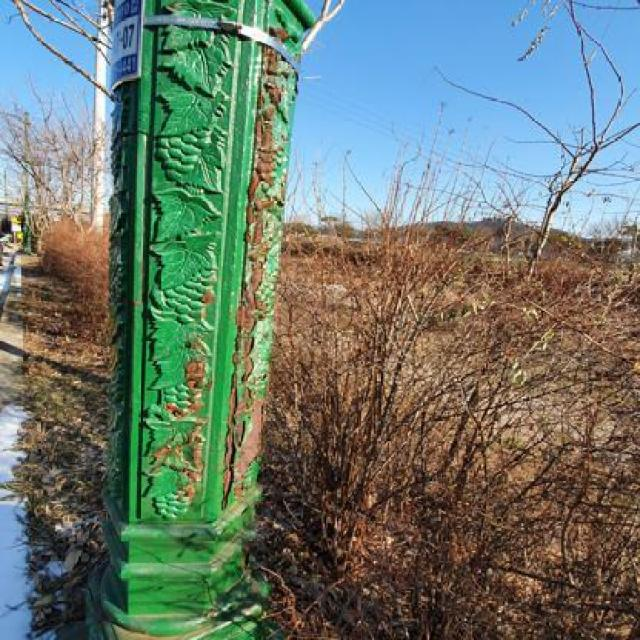pole: (78, 0, 324, 640)
